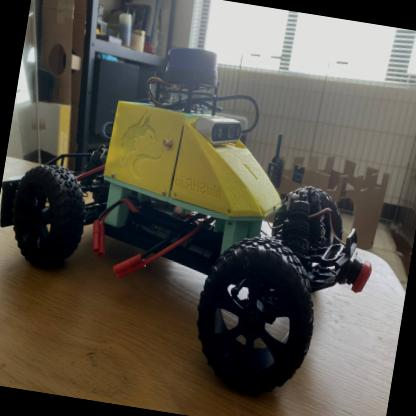mushr_car: (0, 18, 403, 414)
